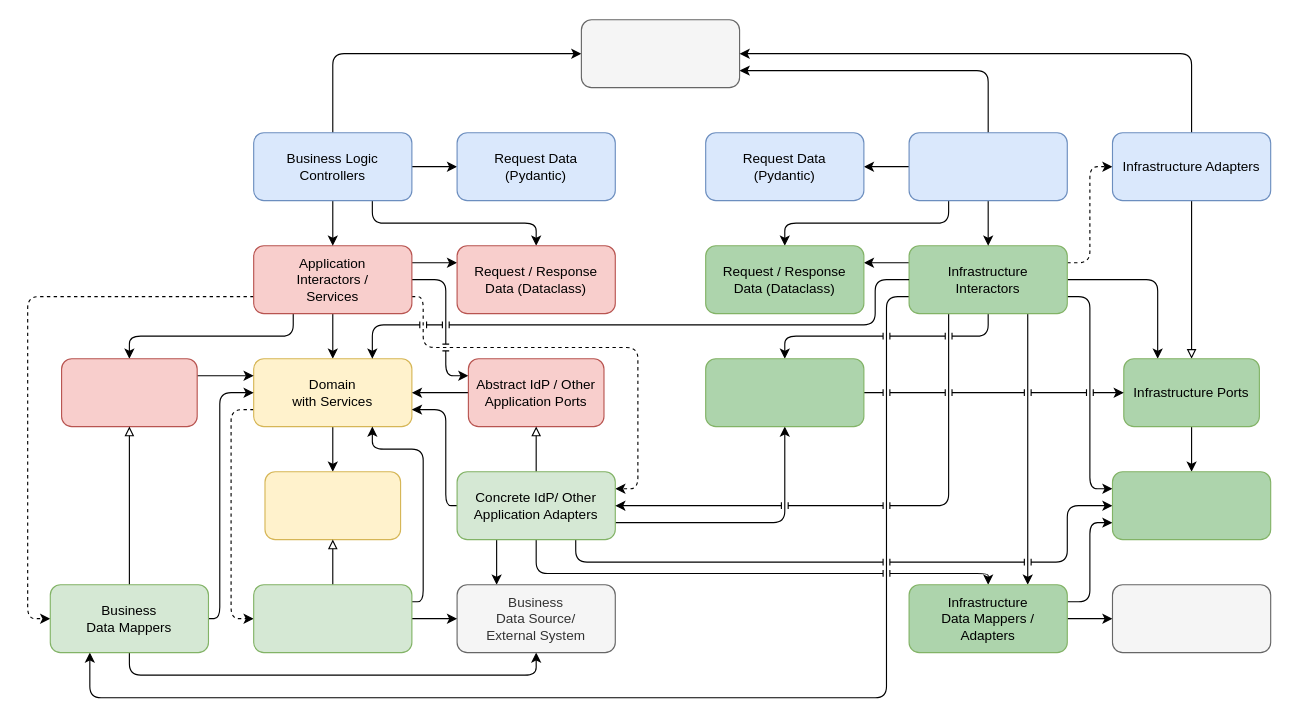
This 1290x727 diagram has some shape labels left out. Here are the shapes that lost their labels. From the top down, the box of each, then its label:
(580, 19, 740, 88): FastAPI
(908, 132, 1067, 201): Infrastructure Logic Controllers
(60, 358, 197, 427): Business Data Gateways
(705, 358, 864, 427): Infrastructure Services
(264, 471, 401, 540): Domain Ports
(1111, 471, 1271, 540): Infrastructure Data
(253, 584, 412, 653): Domain Adapters
(1111, 584, 1271, 653): Infrastructure Data Source/ External System
